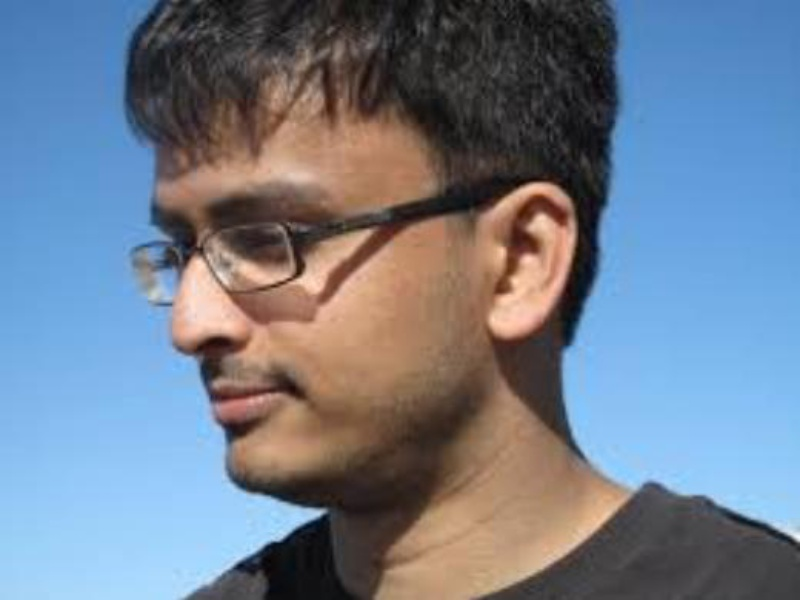TsisyArotava: (89, 6, 586, 523)
